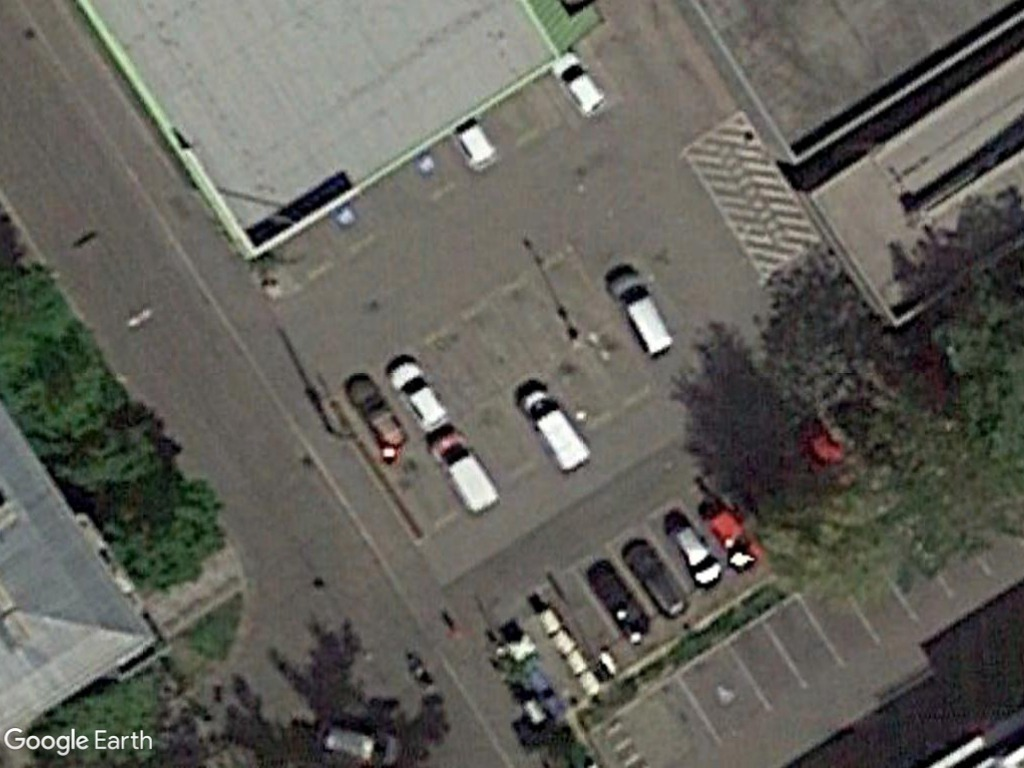car: (381, 355, 452, 444), (659, 518, 726, 595), (308, 714, 403, 768), (548, 47, 613, 123)
van: (603, 266, 677, 363), (426, 424, 500, 520), (514, 384, 591, 476)
